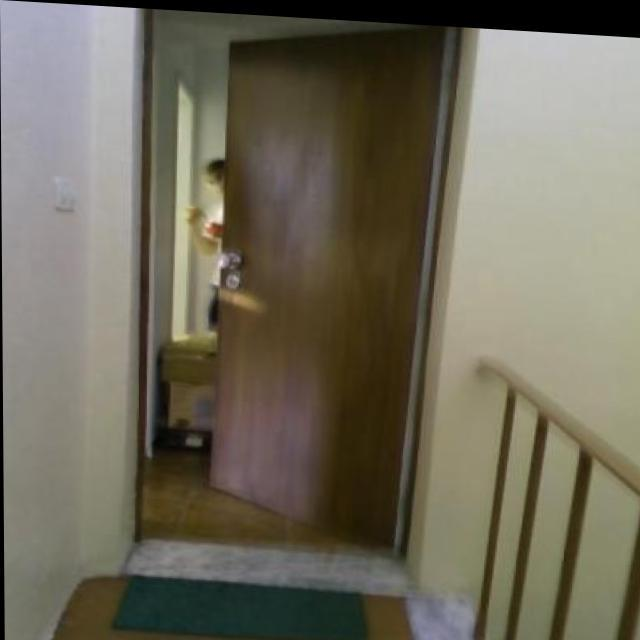door_handle: (214, 237, 244, 297)
